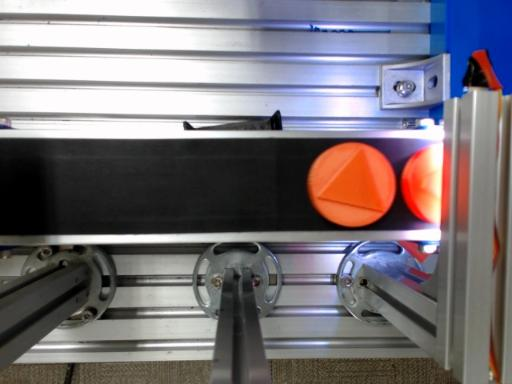Orange_Waper: (307, 142, 395, 226), (402, 144, 442, 224)
